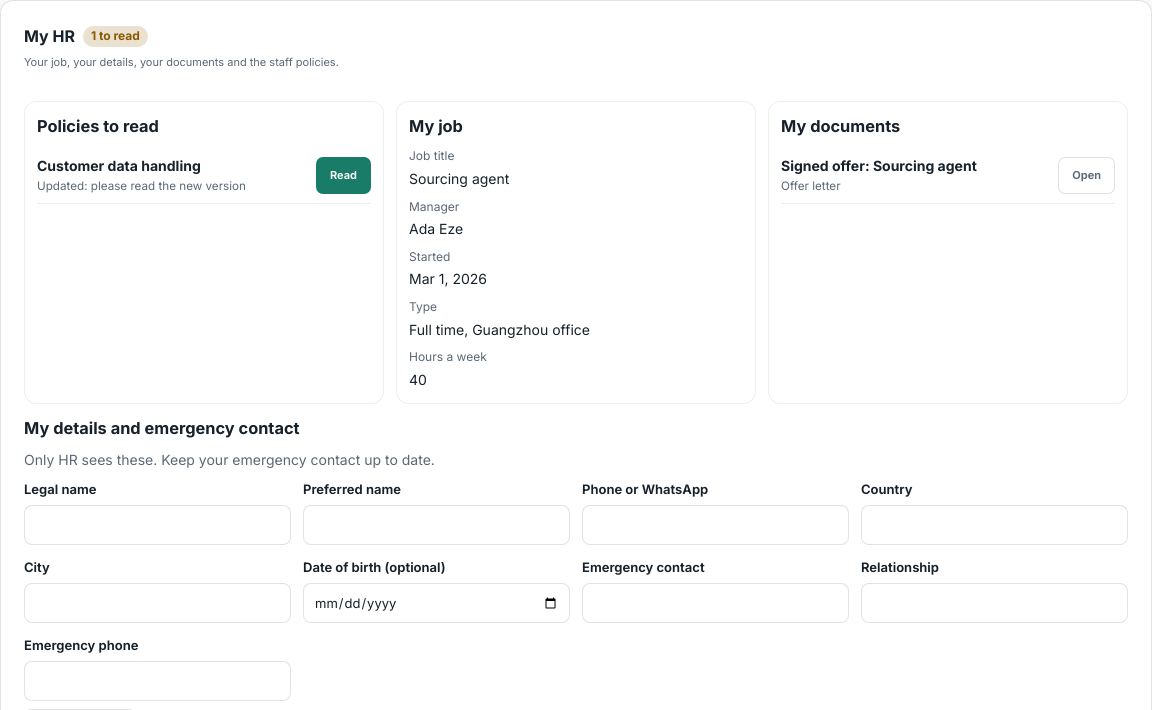
Test case: People records, policies and My HR › lets a team member read and accept a policy in My HR
Expected: the text "1 to read" is shown, x1=83 y1=26 x2=148 y2=47
Expected: the text "Updated: please read the new version" is shown, x1=37 y1=179 x2=246 y2=193
Click the button "Read" at [344, 175], box x1=316 y1=157 x2=371 y2=194
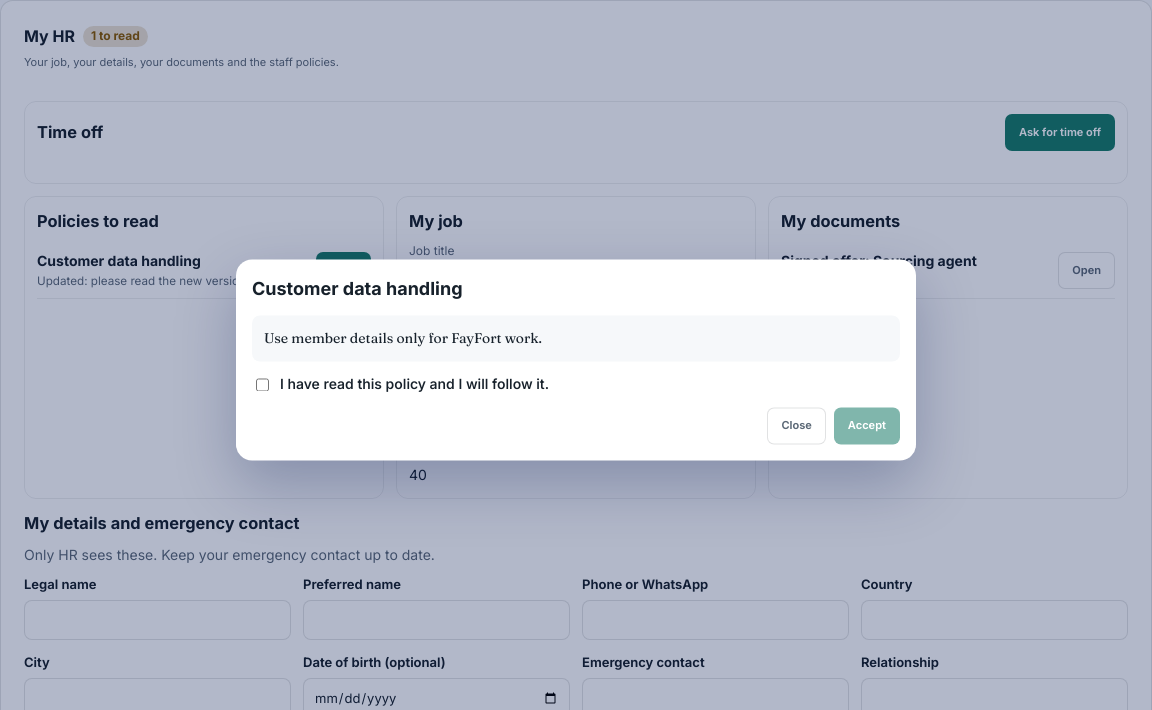
Expected: the button "Accept" is disabled, x1=834 y1=408 x2=900 y2=444
Click the checkbox at [262, 385], box x1=256 y1=378 x2=269 y2=391
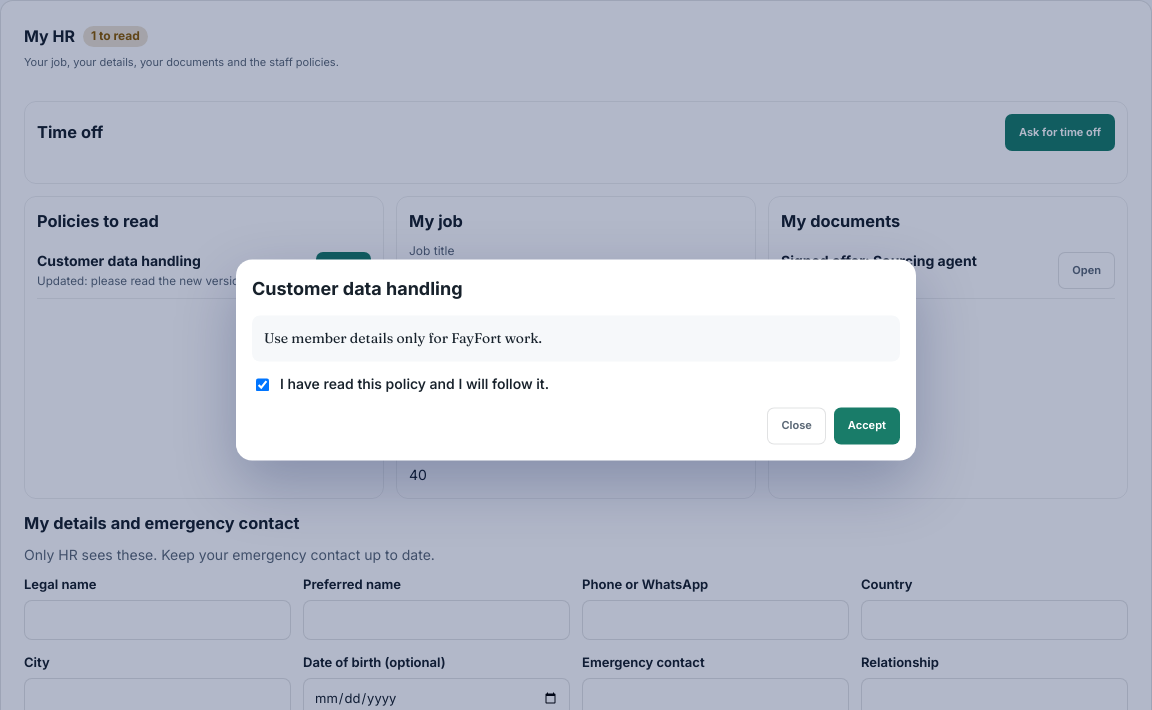
Click the button "Accept" at [867, 426], box x1=834 y1=408 x2=900 y2=444
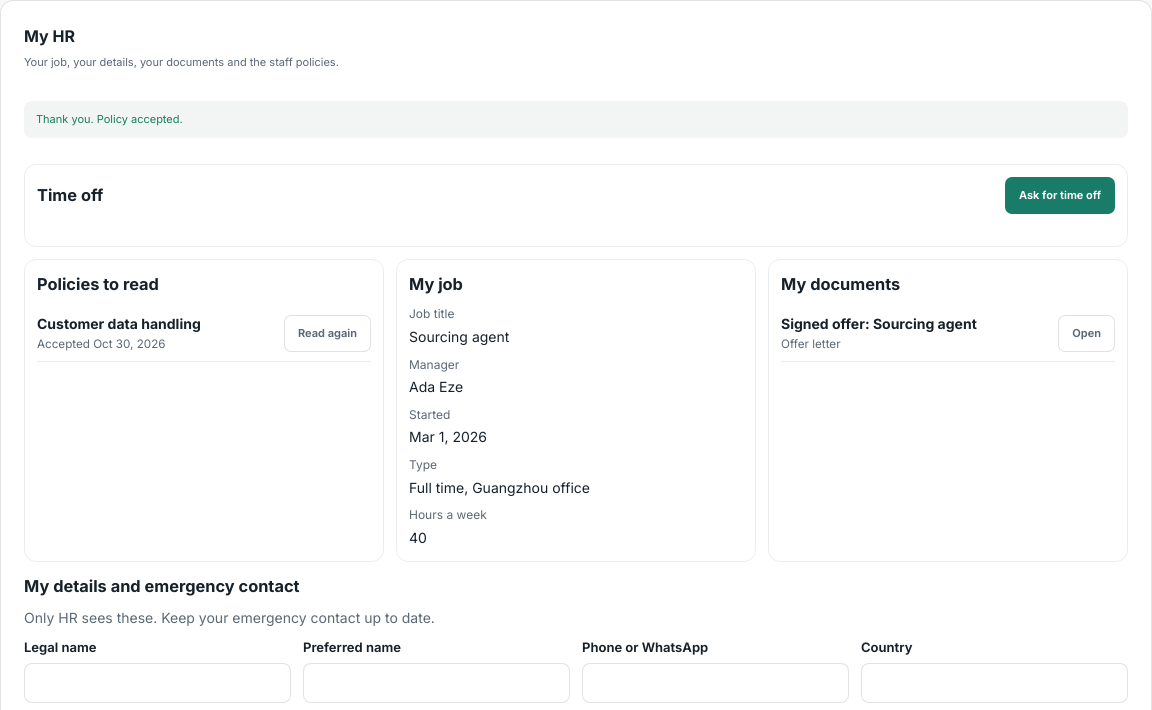
Expected: the text "Thank you. Policy accepted." is shown, x1=24 y1=101 x2=1128 y2=138
